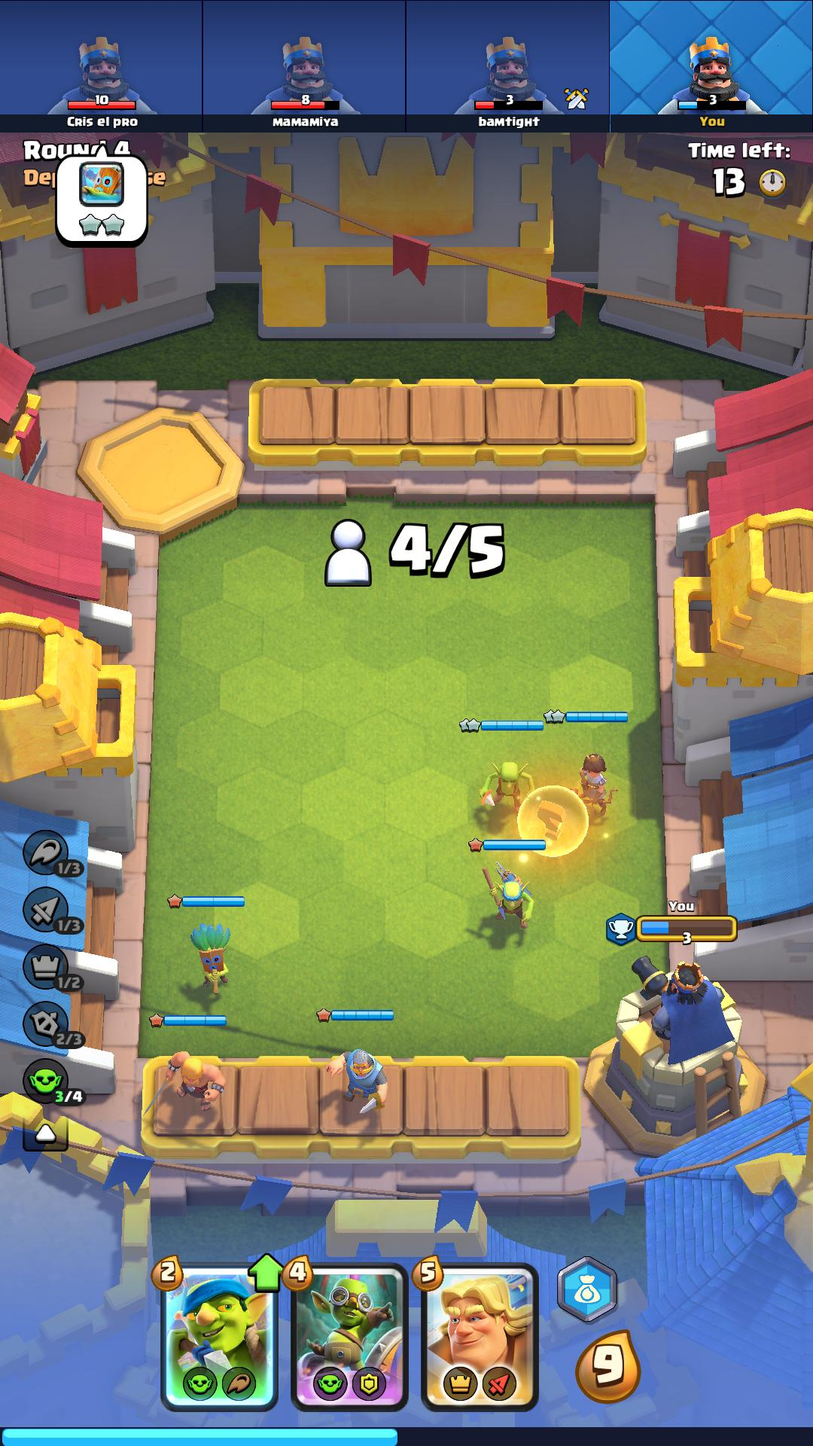barbarian: (137, 1046, 240, 1120)
dart: (173, 919, 249, 1000)
goblin: (474, 751, 539, 809)
hand-golden: (425, 1267, 535, 1408)
hand-machine: (291, 1265, 408, 1408)
hand-spear: (161, 1268, 275, 1406)
knight: (321, 1037, 398, 1113)
orb: (513, 786, 588, 857)
princess: (575, 744, 622, 815)
spear: (471, 858, 538, 933)
upgrade: (242, 1250, 287, 1293)
